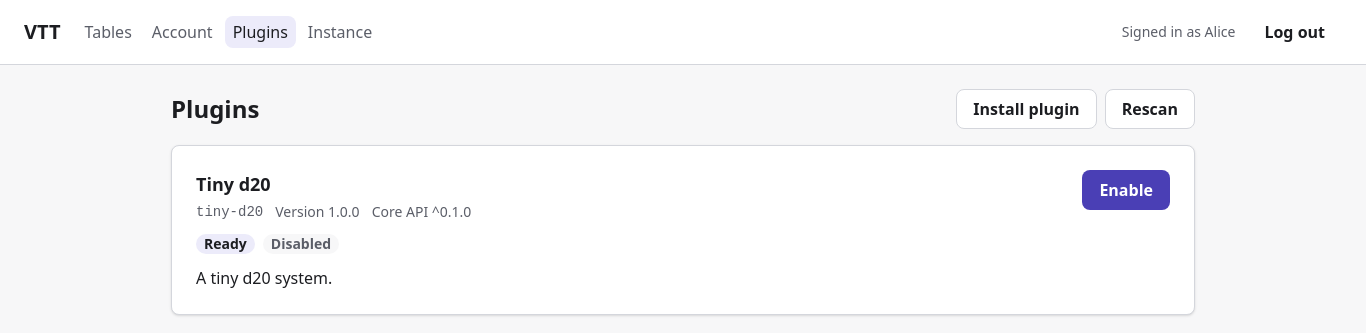
Test: plugin admin page (T-0406, FR-ADMIN-02) › enables and disables a plugin without code
The width and height of the screenshot is (1366, 333).
Click the button "Enable" at (1126, 190), box [1082,170,1170,210]
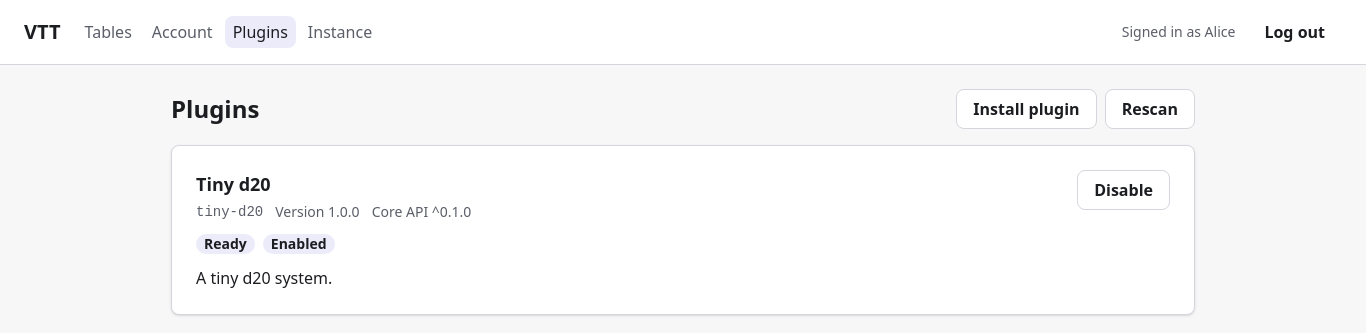
Now the text "Enabled" is shown, box [263,234,335,254]
Click the button "Disable" at (1124, 190), box [1077,170,1170,210]
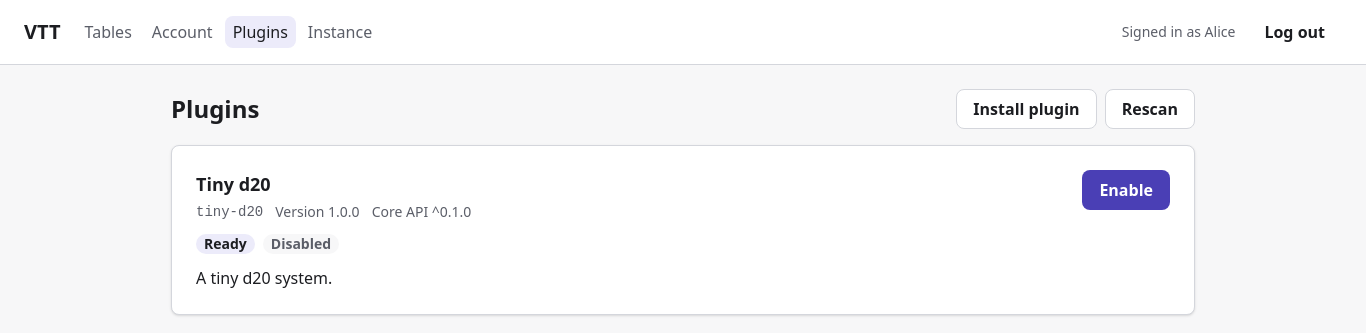
Expected: the button "Enable" is shown, [1082,170,1170,210]
Now the text "Disabled" is shown, box [263,234,339,254]
